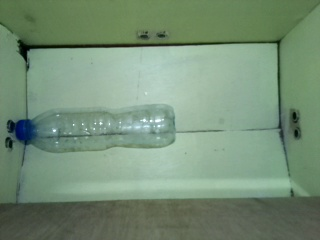bottle: (13, 101, 177, 152)
